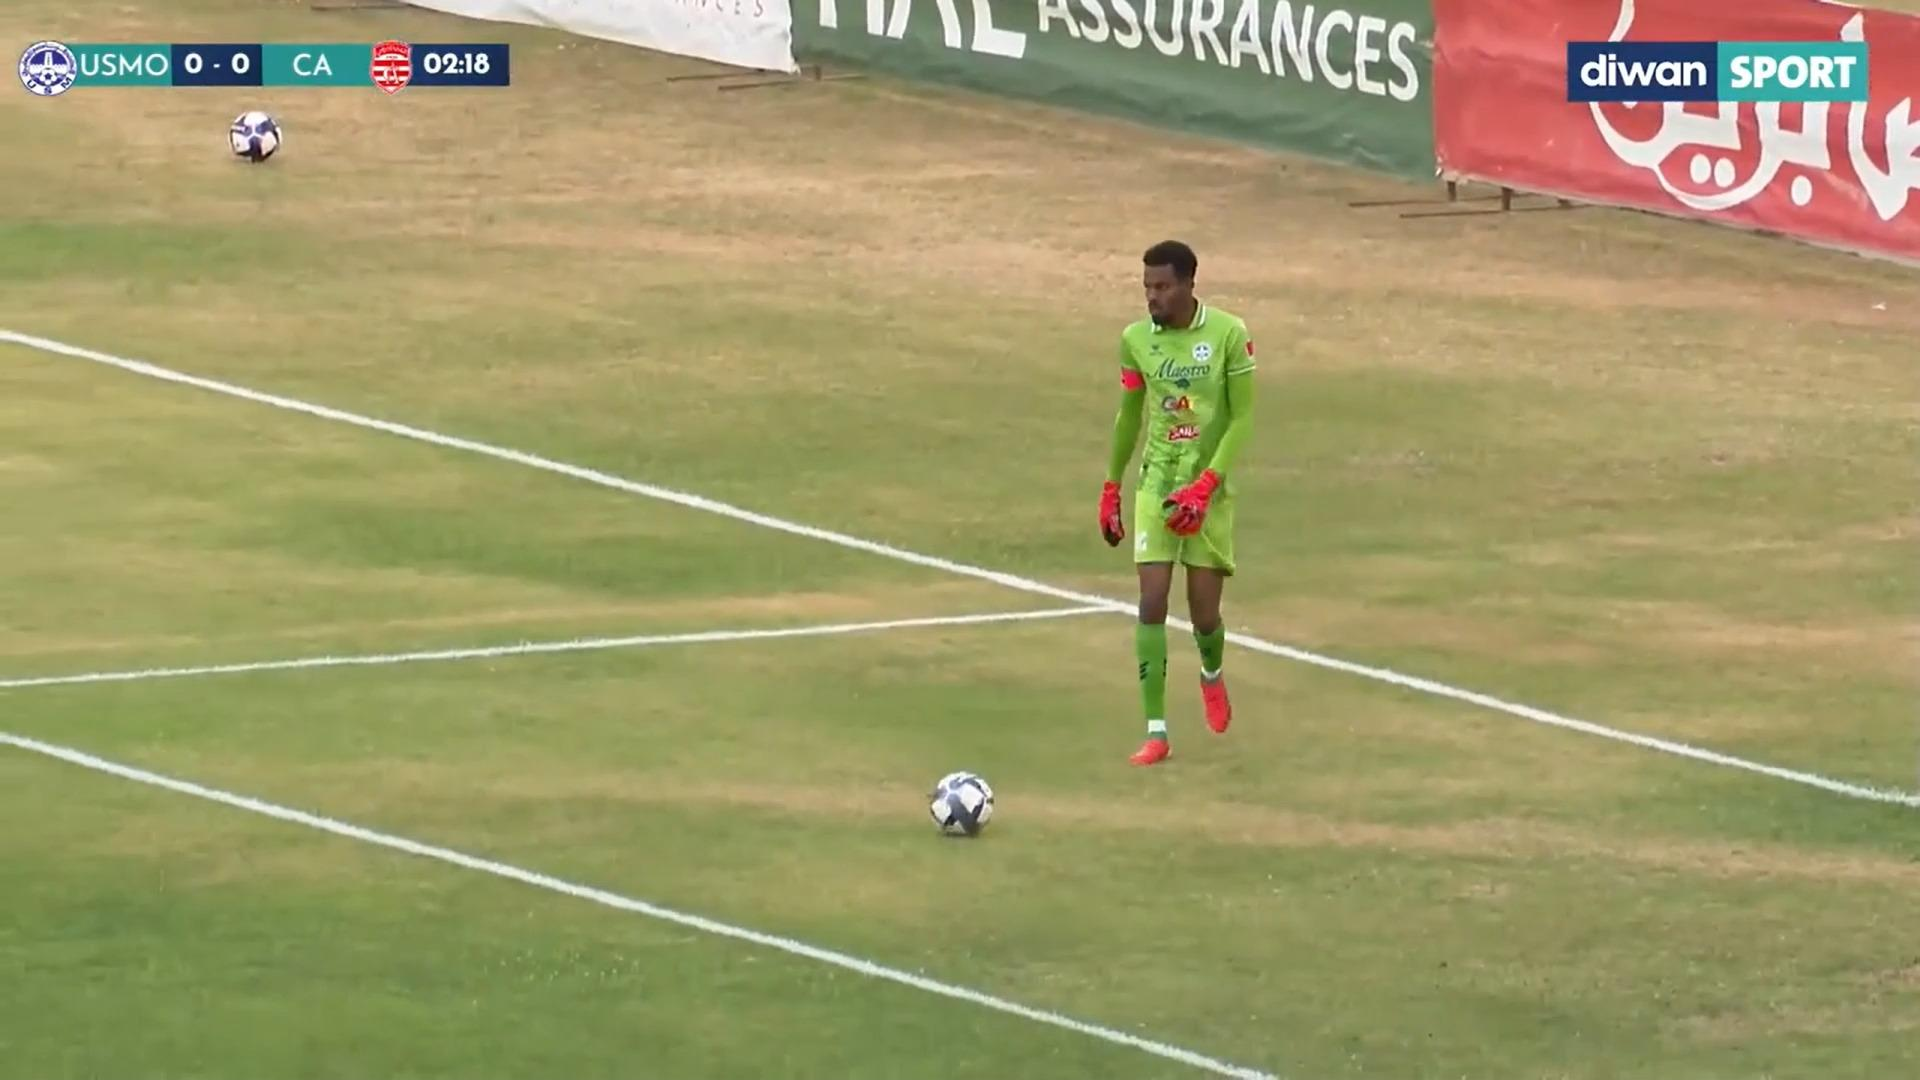ball: (913, 736, 1007, 860), (220, 103, 310, 182)
goalkeeper: (1096, 237, 1287, 783)
